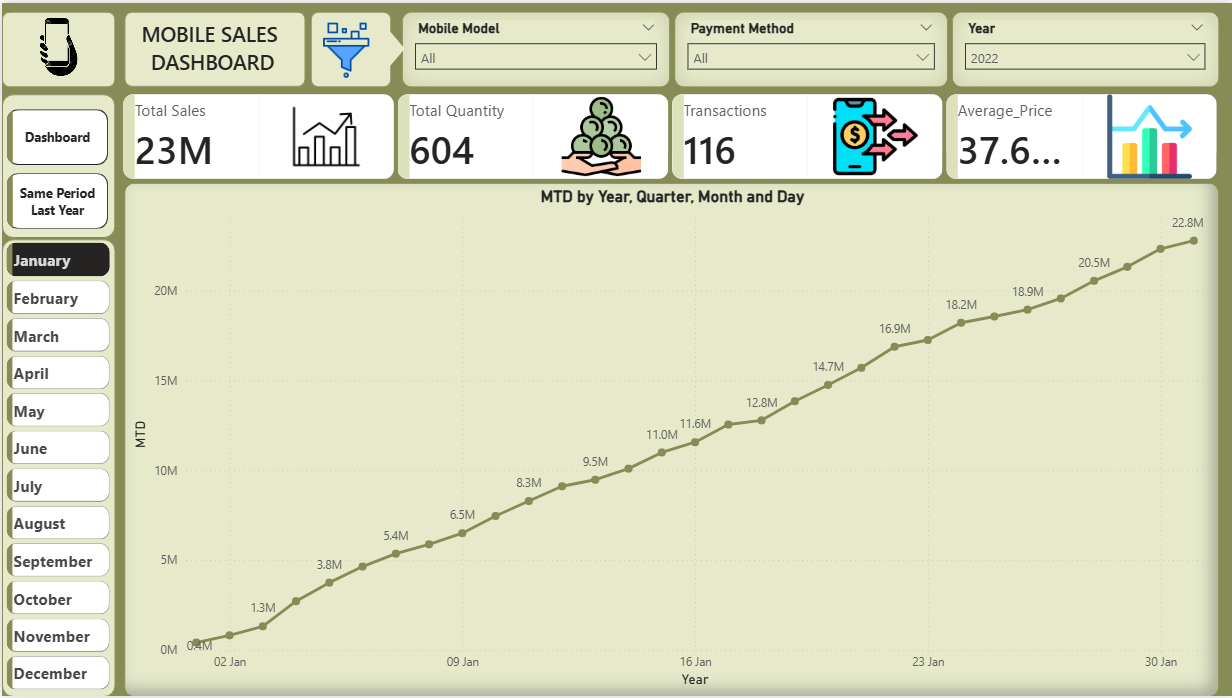

The page's visual inventory and layout, read from the dashboard file:
{"tool":"powerbi","page":{"name":"MTD Report","canvas":[1280,720],"ordinal":1},"visuals":[{"type":"shape","box":[0,8.9,117.7,78.5],"z":0},{"type":"image","box":[0,0,117.9,110.3],"z":1000},{"type":"shape","box":[0,94.9,117.7,149.4],"z":2000},{"type":"cardVisual","fields":{"Data":["Mobile Sales Data.Total_Sales","Mobile Sales Data.Total_Quantity","Mobile Sales Data.Transactions","Mobile Sales Data.Average_Price"]},"box":[108.9,78.5,1170.9,122.8],"z":3000},{"type":"slicer","fields":{"Values":["Mobile Sales Data.Mobile Model"]},"box":[415.3,8.7,278.7,78.7],"z":4000},{"type":"slicer","fields":{"Values":["Mobile Sales Data.Payment Method"]},"box":[698.7,8.7,284,78.7],"z":5000},{"type":"slicer","fields":{"Values":["Custom Calender.Date.Variation.Date Hierarchy.Year"]},"box":[987.3,8.9,277.2,78.5],"z":6000},{"type":"shape","box":[320.3,8.9,83.5,78.5],"z":7000},{"type":"image","box":[300,19,115.2,59.5],"z":8000},{"type":"shape","box":[384.8,27.8,34.2,40.5],"z":9000},{"type":"shape","box":[127.3,9.3,188,78],"z":10000},{"type":"textbox","box":[136.7,12.7,164.6,68.4],"z":11000},{"type":"lineChart","fields":{"Y":["Mobile Sales Data.MTD"],"Category":["Custom Calender.Date.Variation.Date Hierarchy.Year","Custom Calender.Date.Variation.Date Hierarchy.Quarter","Custom Calender.Date.Variation.Date Hierarchy.Month","Custom Calender.Date.Variation.Date Hierarchy.Day"]},"box":[126.9,187.2,1137.2,533.3],"z":12000},{"type":"shape","box":[0,244.9,117.9,475.6],"z":13000},{"type":"advancedSlicerVisual","fields":{"Values":["Custom Calender.Date.Variation.Date Hierarchy.Month"]},"box":[0,243.6,117.9,476.9],"z":14000},{"type":"pageNavigator","box":[5.7,110,105.7,124.3],"z":15000}]}

Visuals, with their boxes in screenshot pixels (x1, y1, x2, y2), scaled from the page's 1280x720 canvas onto the 1232x698 screenshot:
shape: locate(0, 9, 113, 85)
image: locate(0, 0, 113, 107)
shape: locate(0, 92, 113, 237)
cardVisual - Mobile Sales Data.Total_Sales x Mobile Sales Data.Total_Quantity: locate(105, 76, 1231, 195)
slicer - Mobile Sales Data.Mobile Model: locate(400, 8, 668, 85)
slicer - Mobile Sales Data.Payment Method: locate(672, 8, 946, 85)
slicer - Custom Calender.Date.Variation.Date Hierarchy.Year: locate(950, 9, 1217, 85)
shape: locate(308, 9, 389, 85)
image: locate(289, 18, 400, 76)
shape: locate(370, 27, 403, 66)
shape: locate(123, 9, 303, 85)
textbox: locate(132, 12, 290, 79)
lineChart - Mobile Sales Data.MTD x Custom Calender.Date.Variation.Date Hierarchy.Year: locate(122, 181, 1217, 697)
shape: locate(0, 237, 113, 697)
advancedSlicerVisual - Custom Calender.Date.Variation.Date Hierarchy.Month: locate(0, 236, 113, 697)
pageNavigator: locate(5, 107, 107, 227)
